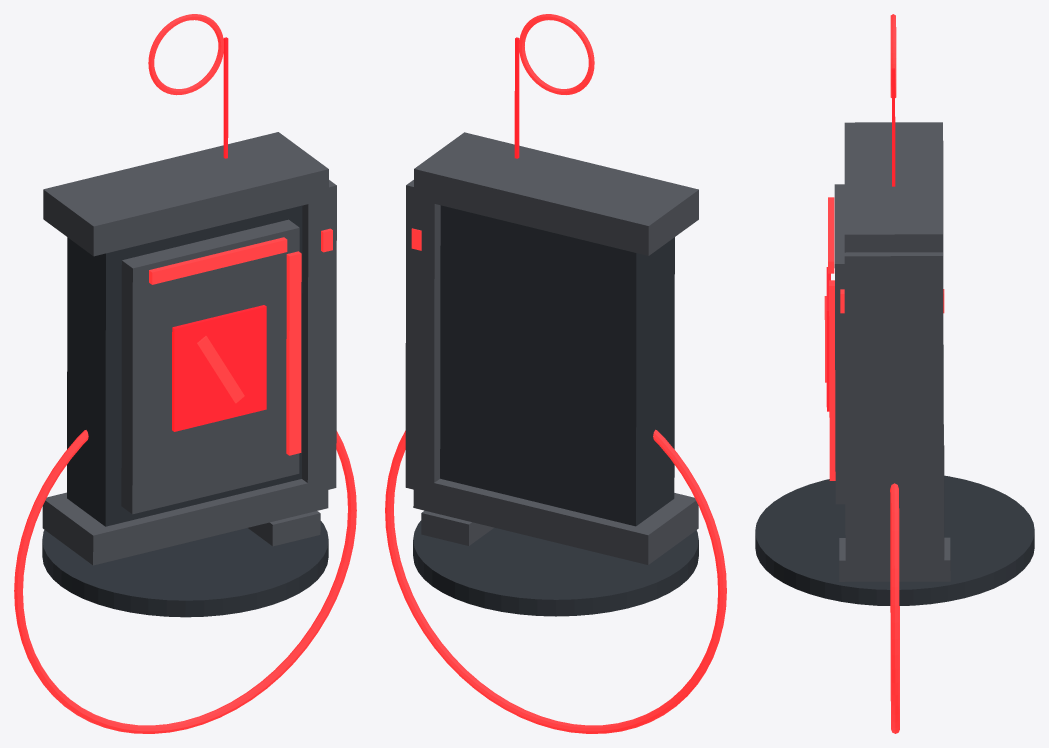
Rendered from FINAL_Memory_Pack.glb.
3 views of the same model, side by side, from view 1: azimuth 30°, elevation 25°; view 2: azimuth 150°, elevation 25°; view 3: azimuth 270°, elevation 25° (orthographic). The views are drawn at different scales.
Visible parts, largest first — view 1: FrontArmor, TopCap, MemoryPack_Core, Base, BottomCap, SideRail, CorePanel, TimerGlowRing, FrontGlowStrip, FrontGlowBar, Foot, HologramRing (+2 smaller); view 2: MemoryPack_Core, TopCap, Base, BottomCap, SideRail, TimerGlowRing, Foot, HologramRing, HoloBeam; view 3: SideRail, Base, TopCap, FrontArmor, TimerGlowRing, Foot, BottomCap, FrontGlowStrip, FrontGlowBar, CorePanel, HologramRing.
Part boxes in pixels (x1,y1,x2,y2): FrontArmor: (121,219,299,514); TopCap: (43,132,328,256); MemoryPack_Core: (67,205,302,526); Base: (42,521,328,617); BottomCap: (42,478,328,565); SideRail: (302,180,336,494); CorePanel: (172,305,266,431); TimerGlowRing: (14,430,356,733); FrontGlowStrip: (286,251,301,455); FrontGlowBar: (149,237,287,284); Foot: (248,511,320,546); HologramRing: (148,14,223,95); MemoryPack_Core: (440,205,674,526); TopCap: (414,132,698,255); Base: (413,520,698,616); BottomCap: (413,478,698,564); SideRail: (405,180,440,489); TimerGlowRing: (385,429,726,733); Foot: (421,510,493,545); HologramRing: (519,14,594,94); HoloBeam: (514,37,519,158); SideRail: (844,252,943,551); Base: (755,475,1034,605); TopCap: (844,122,943,252); FrontArmor: (834,184,845,504); TimerGlowRing: (890,483,899,733); Foot: (839,537,950,581); BottomCap: (845,424,944,565); FrontGlowStrip: (829,280,835,480); FrontGlowBar: (828,197,834,273); CorePanel: (826,267,830,411); HologramRing: (890,14,896,97).
Size of the model in its own units: 2.15 by 4.3 by 1.56.
